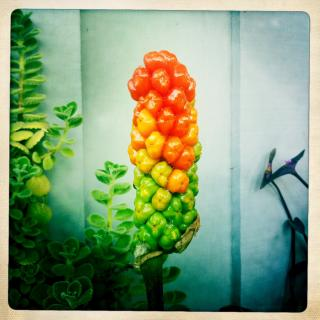Bell pepper: (126, 51, 200, 255)
